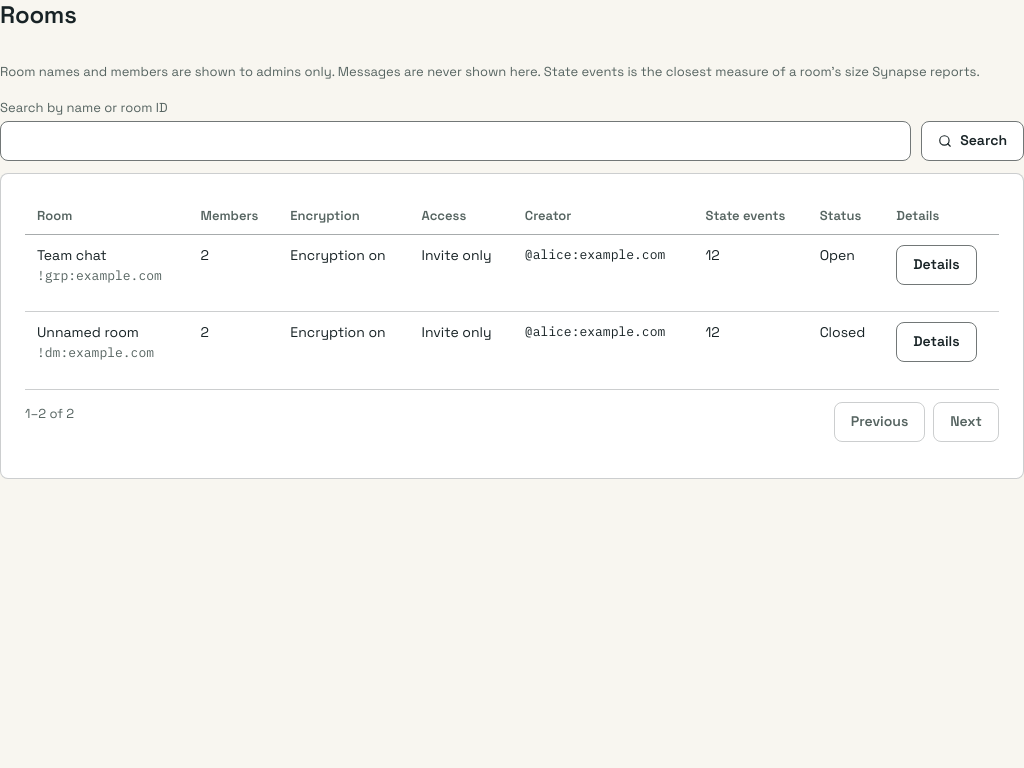
Test: Rooms › retries a close after the admin confirms it is them
Click the button with aria-label "Details for Team chat" at {"x": 936, "y": 264}, box [896,244,977,284]
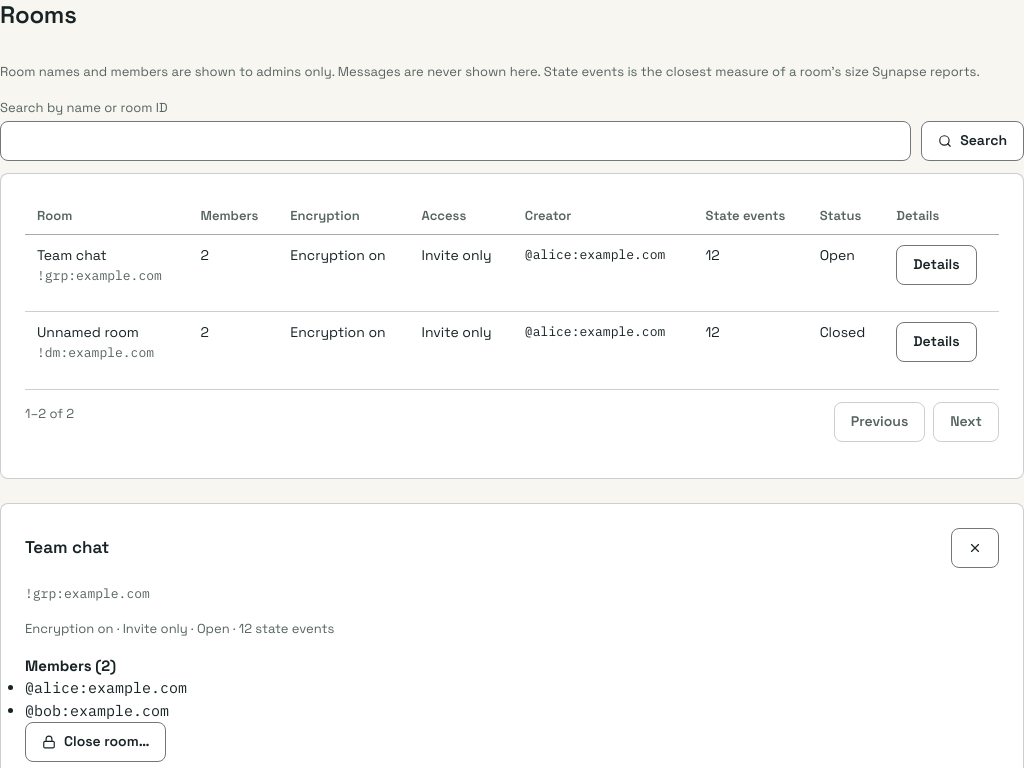
expect the list named "Members" is shown: met, box [25,678,187,720]
Click the button "Close room…" at {"x": 96, "y": 742}, box [25,722,166,762]
(page scrolled)
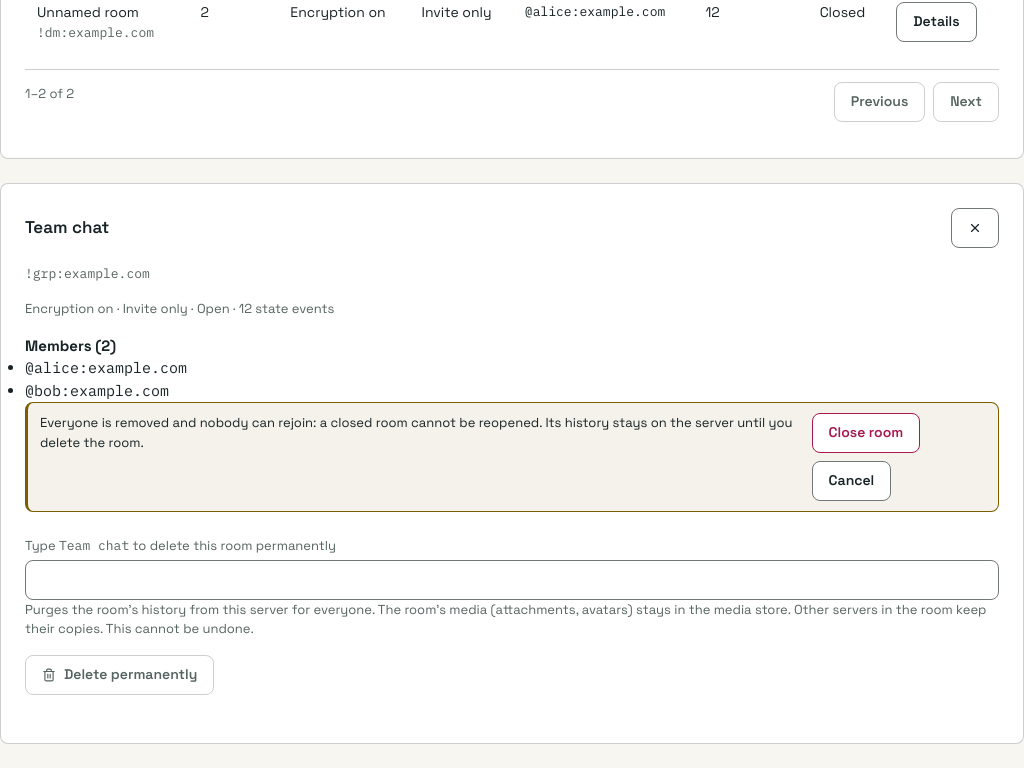
Click the button "Close room" at {"x": 866, "y": 433}, box [812,413,920,453]
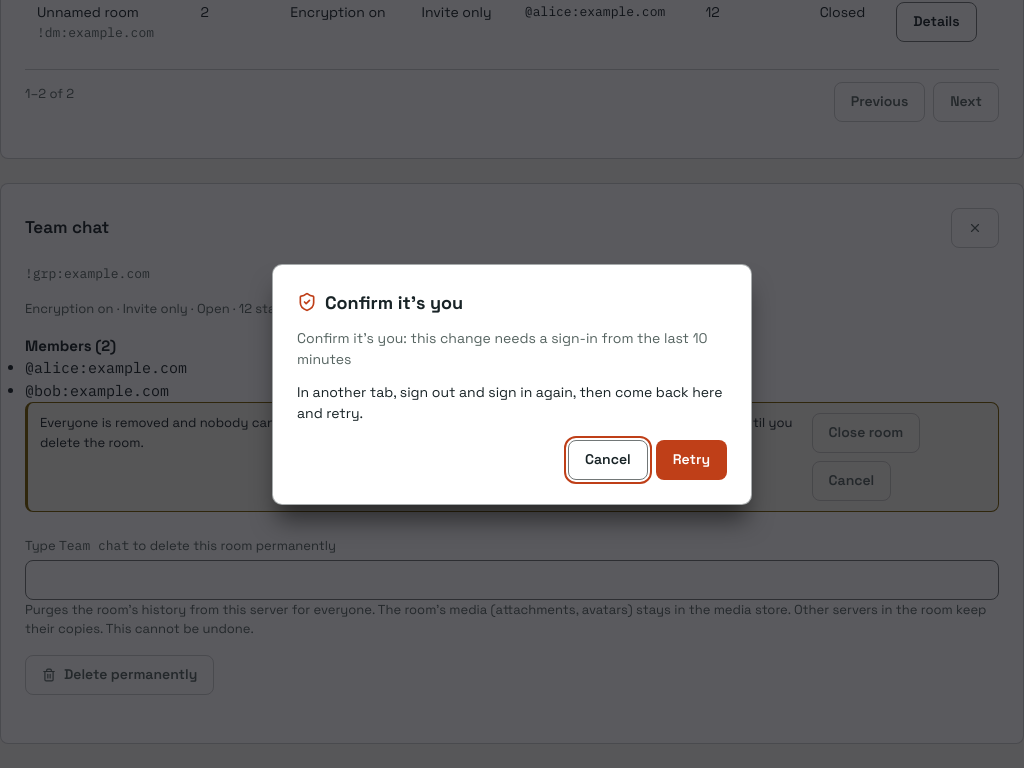
Click the button "Retry" at {"x": 691, "y": 460}, box [656,440,727,480]
(page scrolled)
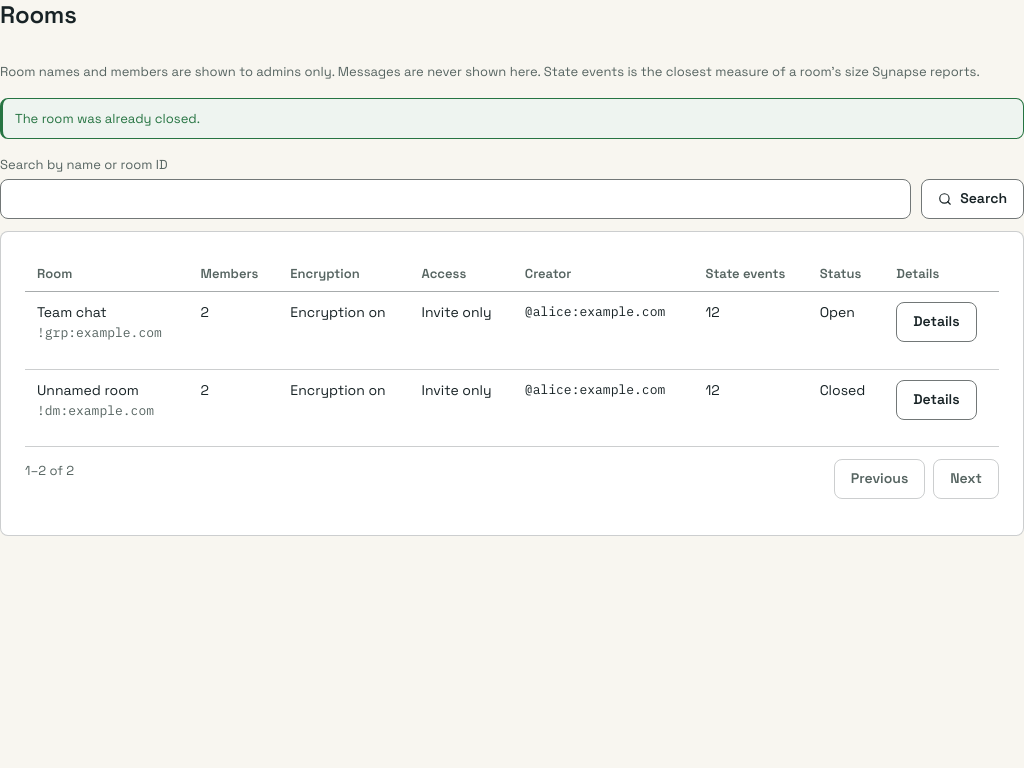
expect the text "The room was already closed." is shown: met, box [15,108,200,128]
